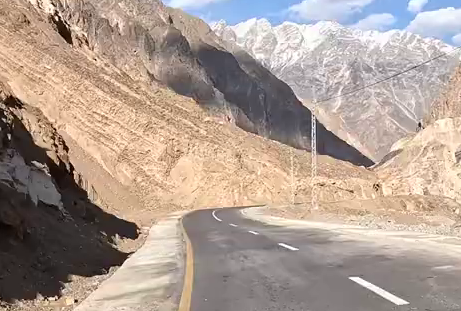stright: (167, 193, 274, 271)
